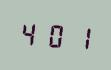four: (18, 17, 41, 49)
one: (67, 20, 90, 52)
zero: (43, 19, 66, 50)
